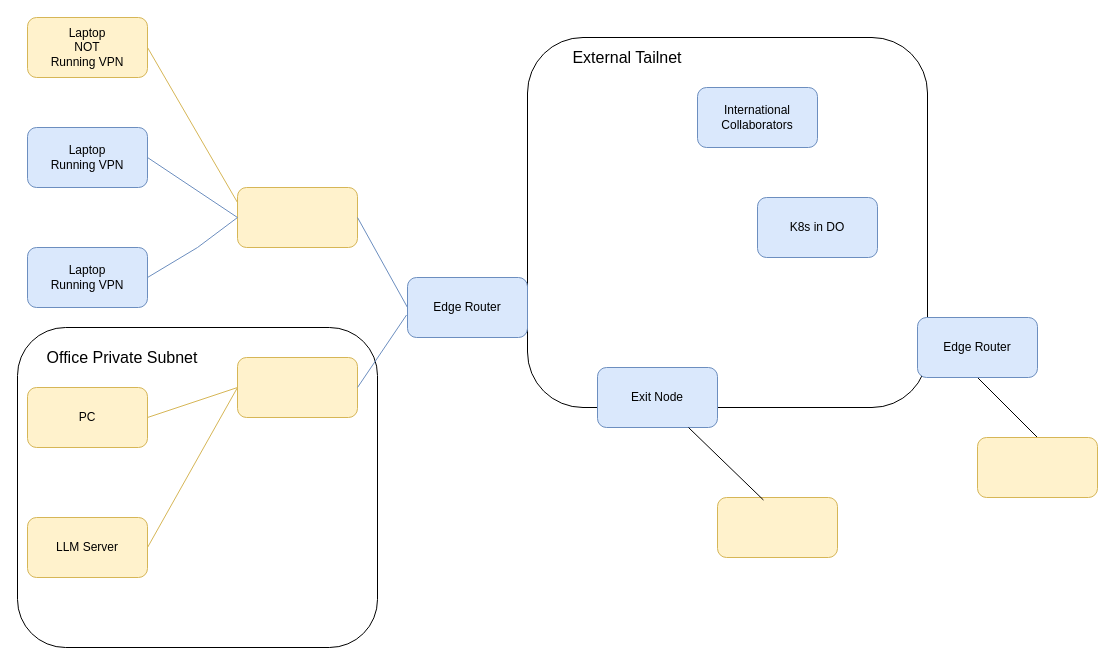
Image size: 1115x665. Some labels were removed from this diagram. Each missing label, with the centre of its shape:
Network Switch: (297,387)
Office WiFi AP: (297,217)
Open Internet: (777,527)
RRIV Boards: (1037,467)
